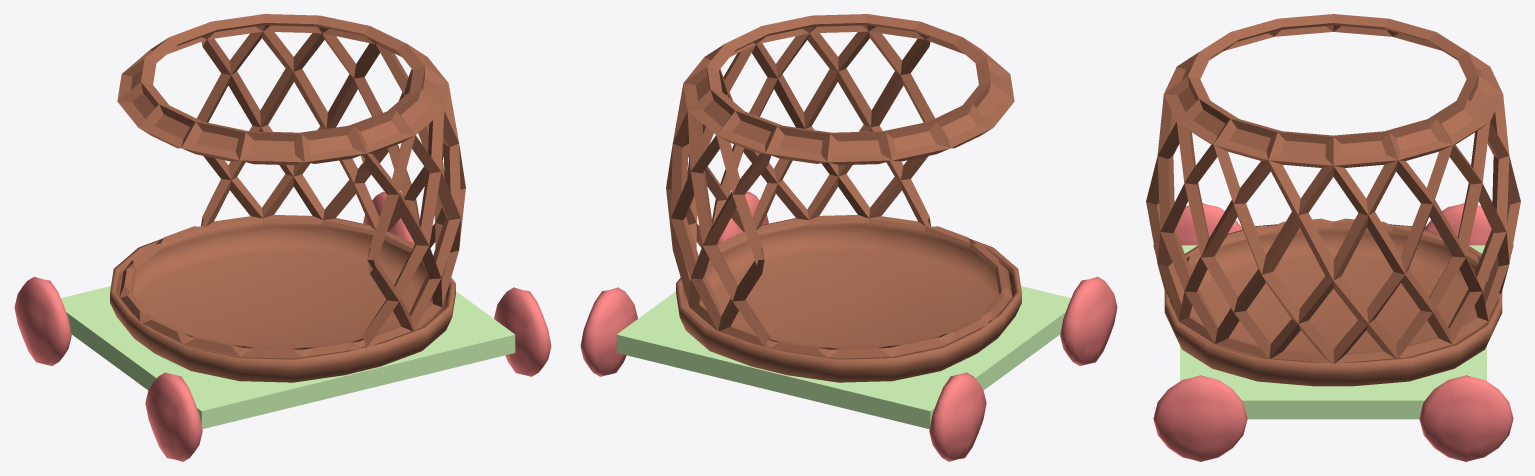
File: Basket.fbx
3 renders of one model, left to right at view 1: azimuth 30°, elevation 25°; view 2: azimuth 150°, elevation 25°; view 3: azimuth 270°, elevation 25°, orthographic.
Parts seen in each view (by area): view 1: Cube; view 2: Cube; view 3: Cube.
Boxes of the visible parts, <box> form: Cube: <box>14,14,551,461</box>; Cube: <box>580,14,1117,461</box>; Cube: <box>1146,14,1520,461</box>.
Size of the model in its own units: 4.35 by 3.23 by 3.67.
1 material, 1 textured.
